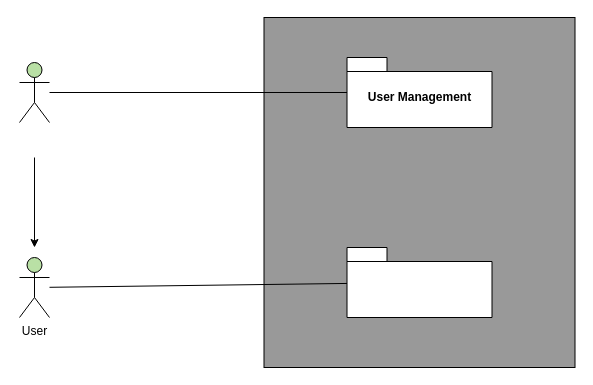
The diagram is 593 pixels wide and 385 high, and some of its shapes have lost their labels. The box of each missing label's shape, as (x1, y1, x2, y2) in pixels:
Admin: (18, 62, 50, 122)
Task Management: (346, 246, 492, 318)
